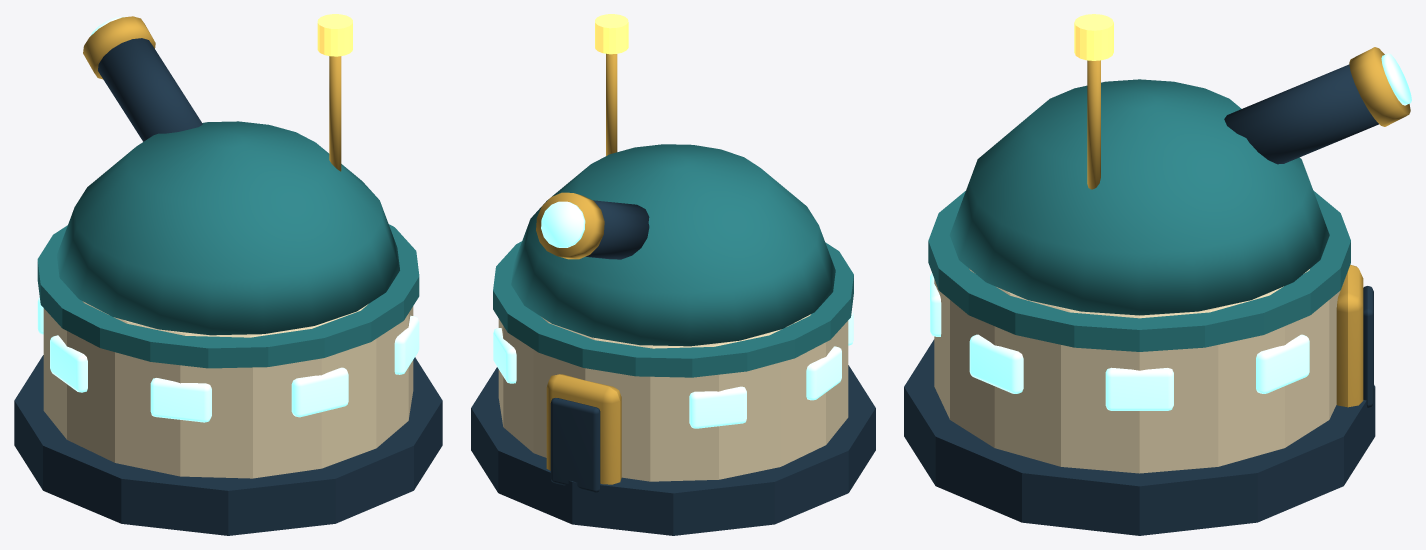
The model's file is space-observatory.glb.
3 views of the same model, side by side, from view 1: azimuth 30°, elevation 25°; view 2: azimuth 150°, elevation 25°; view 3: azimuth 270°, elevation 25° (orthographic). The views are drawn at different scales.
Visible parts, largest first — view 1: Structure; view 2: Structure; view 3: Structure.
Part boxes in pixels (bbox=[...]): Structure: bbox=[14, 14, 442, 535]; Structure: bbox=[471, 14, 875, 535]; Structure: bbox=[904, 14, 1411, 535].
Bounding box in the file's own units: 3.1 × 3.34 × 3.34.
